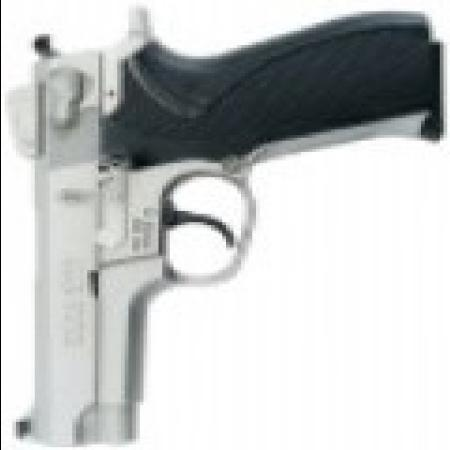Pistol: (8, 17, 438, 447)
